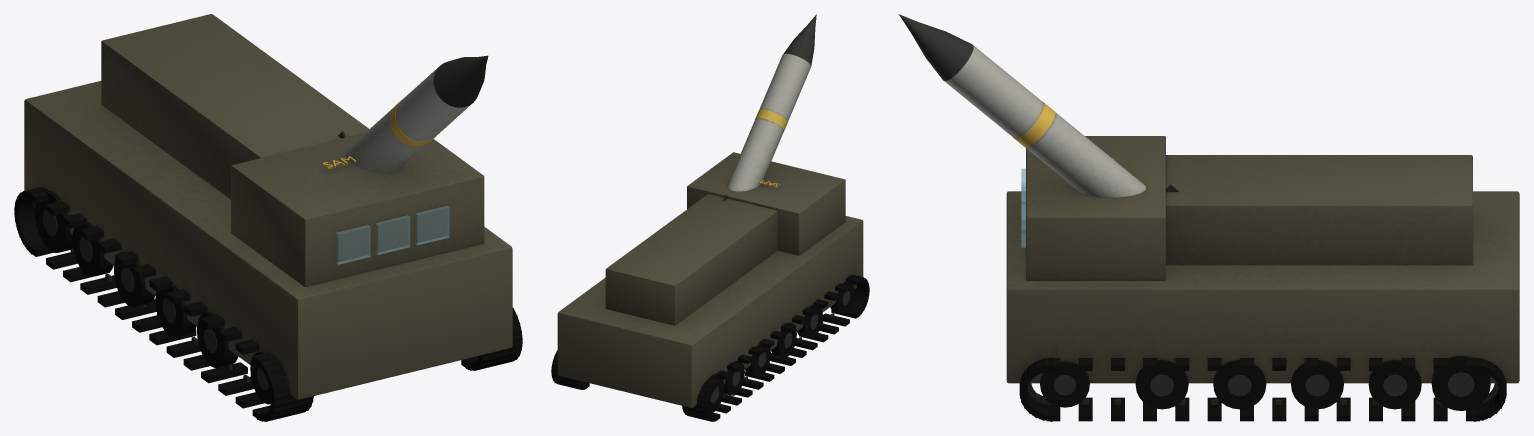
File: sphere-atacms-later-block.glb
The picture shows the model from 3 angles, left to right: view 1: azimuth 30°, elevation 25°; view 2: azimuth 150°, elevation 25°; view 3: azimuth 270°, elevation 25°; orthographic projection. The views are drawn at different scales.
Parts seen in each view (by area): view 1: hull, glass_1, glass_0, glass_2; view 2: hull; view 3: hull.
Boxes of the visible parts, x1,y1,x2,y2 form: hull: [14, 14, 522, 421]; glass_1: [375, 215, 410, 254]; glass_0: [336, 225, 370, 264]; glass_2: [415, 206, 449, 245]; hull: [551, 14, 869, 421]; hull: [898, 14, 1519, 421].
Bounding box in the file's own units: 3.45 × 5.15 × 7.99.
2 materials, 1 textured.
